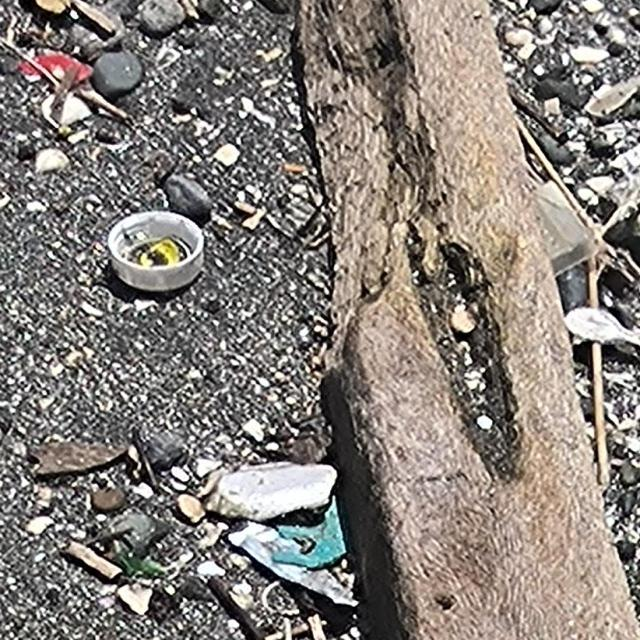plastic_waste: (108, 211, 206, 293)
